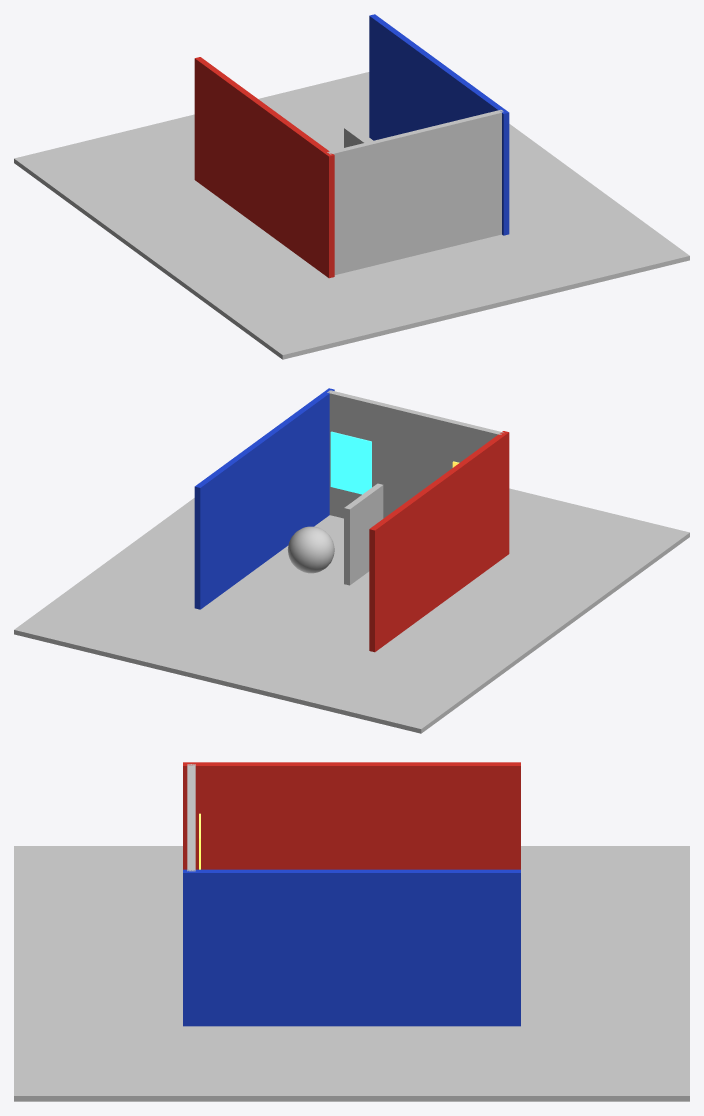
Rendered from ddgi.gltf.
The picture shows the model from 3 angles, top to bottom: view 1: azimuth 30°, elevation 25°; view 2: azimuth 150°, elevation 25°; view 3: azimuth 270°, elevation 25°; orthographic projection. The views are drawn at different scales.
Parts seen in each view (by area): view 1: Exhibit; view 2: Exhibit; view 3: Exhibit.
Boxes of the visible parts, x1=… form: Exhibit: x1=14, y1=14, x2=689, y2=359; Exhibit: x1=14, y1=388, x2=689, y2=733; Exhibit: x1=14, y1=762, x2=689, y2=1101.
Size of the model in its own units: 14 by 4.15 by 16.
